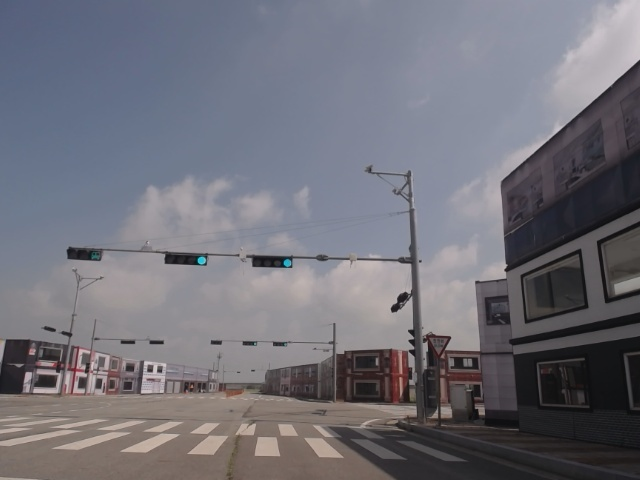straight_green_4: (252, 256, 293, 269), (165, 253, 207, 264)
